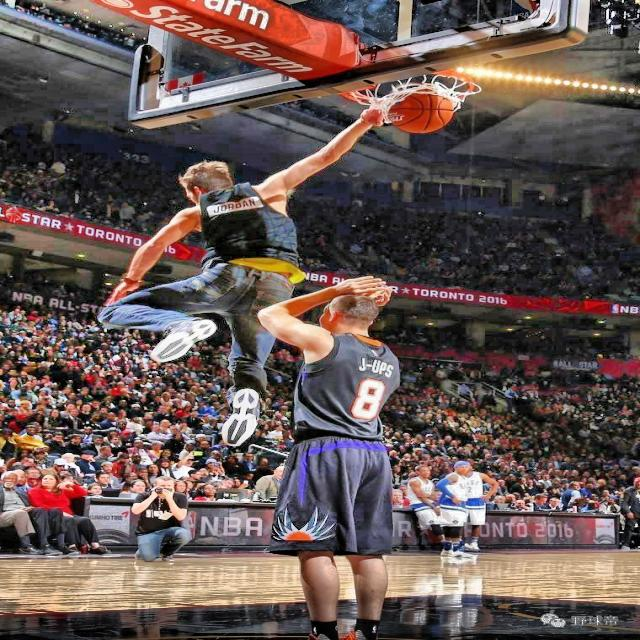board: (385, 93, 456, 133)
rim: (349, 69, 488, 116)
